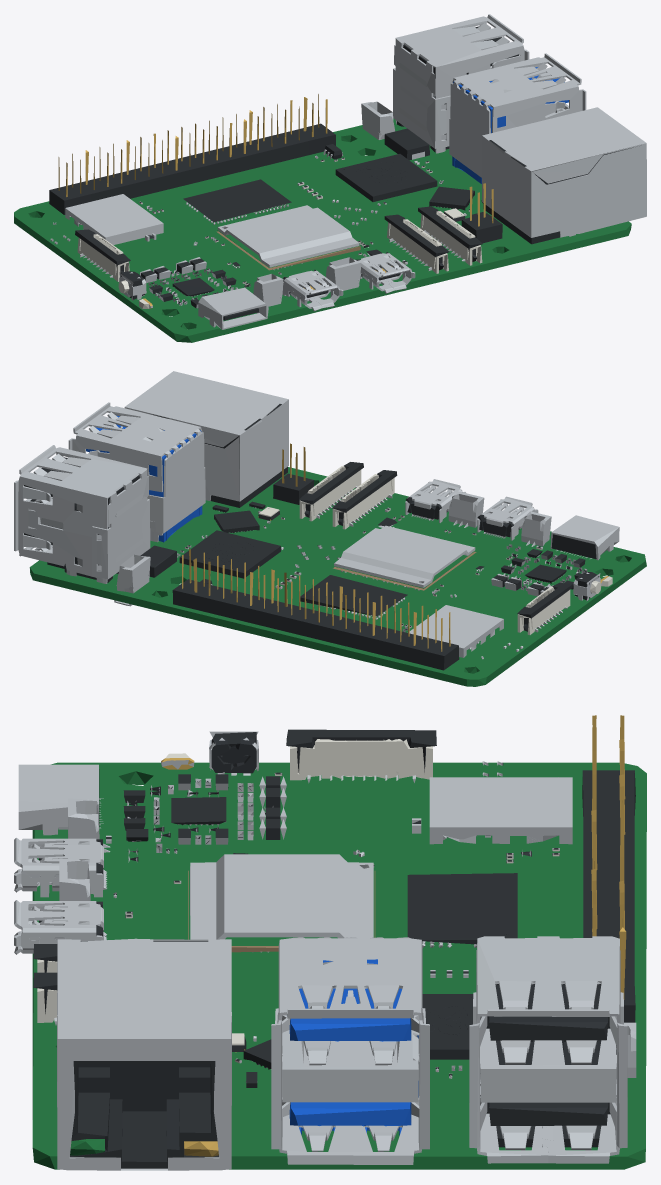
File: raspberry-pi-5.glb
3 views of the same model, one above another, from view 1: azimuth 30°, elevation 25°; view 2: azimuth 150°, elevation 25°; view 3: azimuth 270°, elevation 25° (orthographic). The views are drawn at different scales.
Visible parts, largest first — view 1: RPI5_PresentationRoot; view 2: RPI5_PresentationRoot; view 3: RPI5_PresentationRoot.
Boxes of the visible parts, x1=… form: RPI5_PresentationRoot: x1=14, y1=14, x2=646, y2=342; RPI5_PresentationRoot: x1=14, y1=371, x2=646, y2=686; RPI5_PresentationRoot: x1=14, y1=715, x2=646, y2=1170.
Size of the model in its own units: 0.0885 by 0.0189 by 0.0576.
